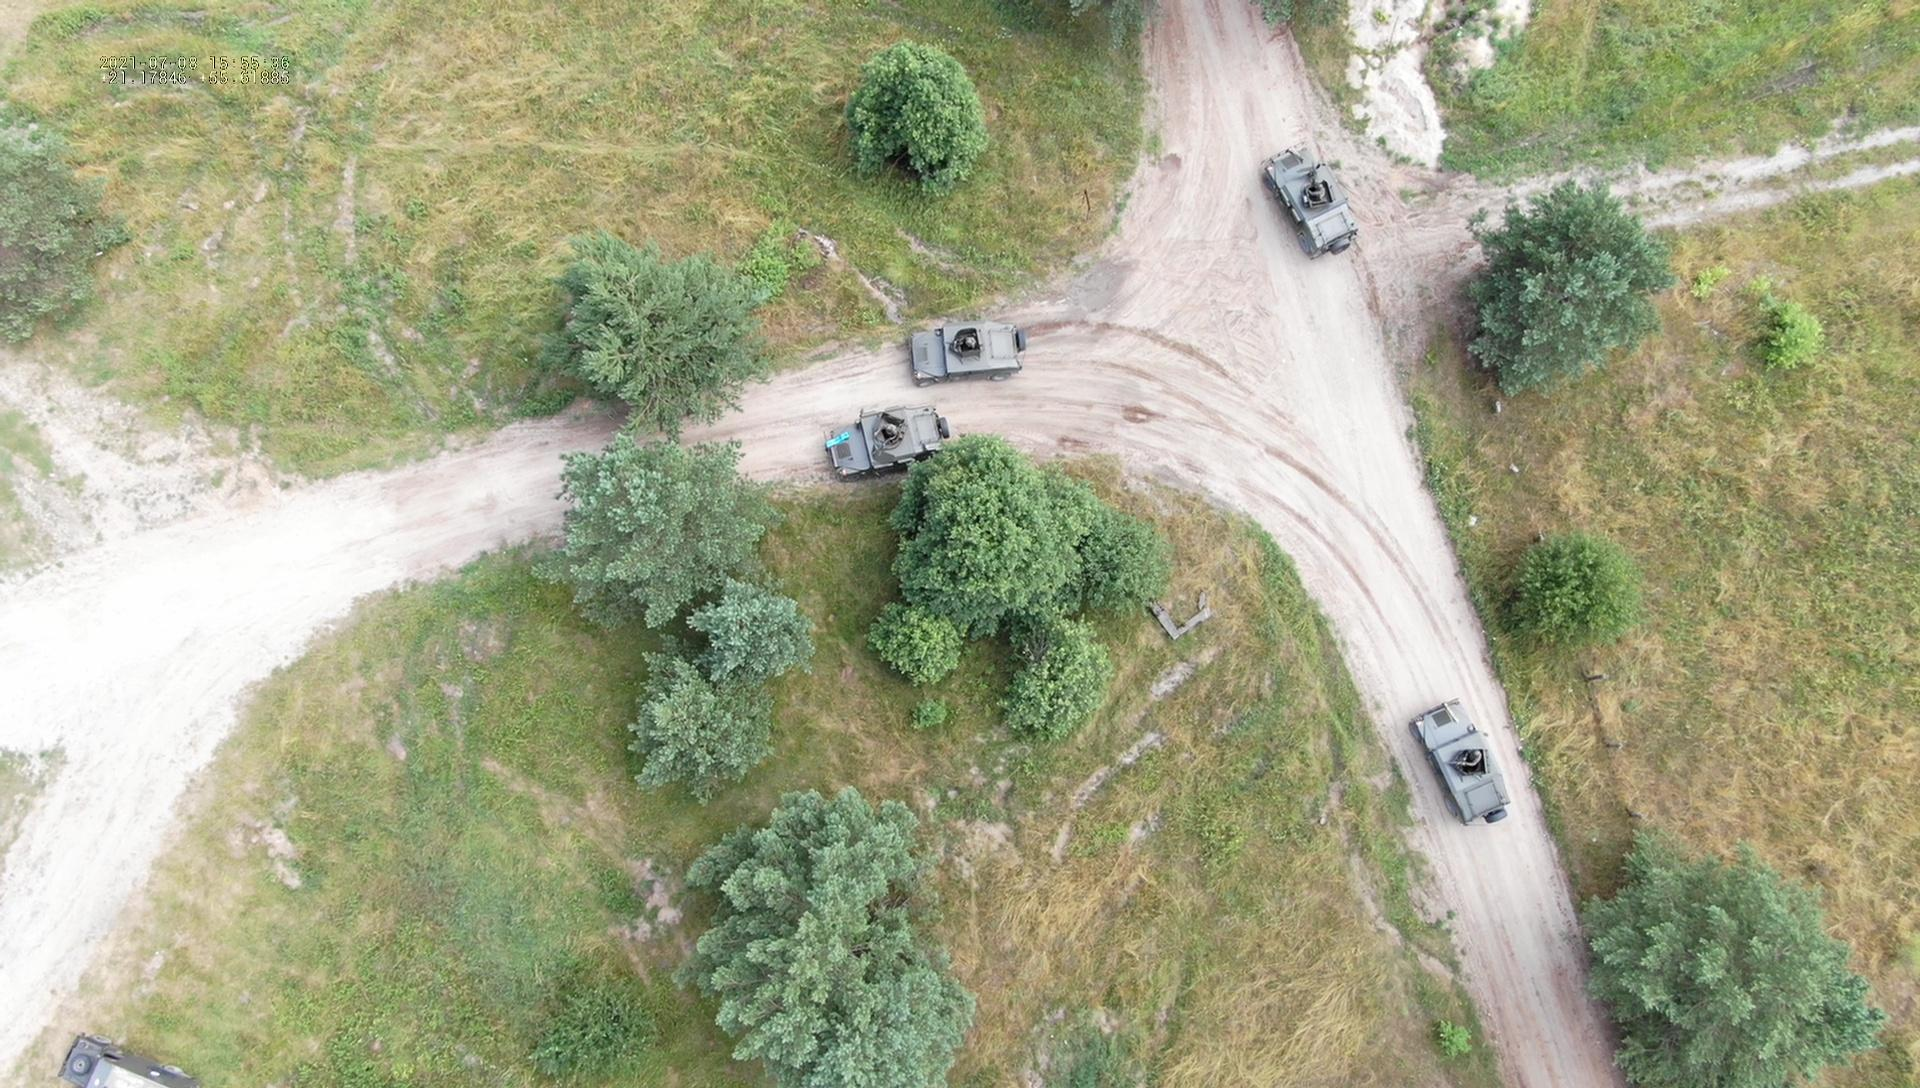Soldier: (872, 414, 907, 448), (1458, 742, 1487, 775), (1304, 174, 1332, 207), (956, 328, 985, 359)
